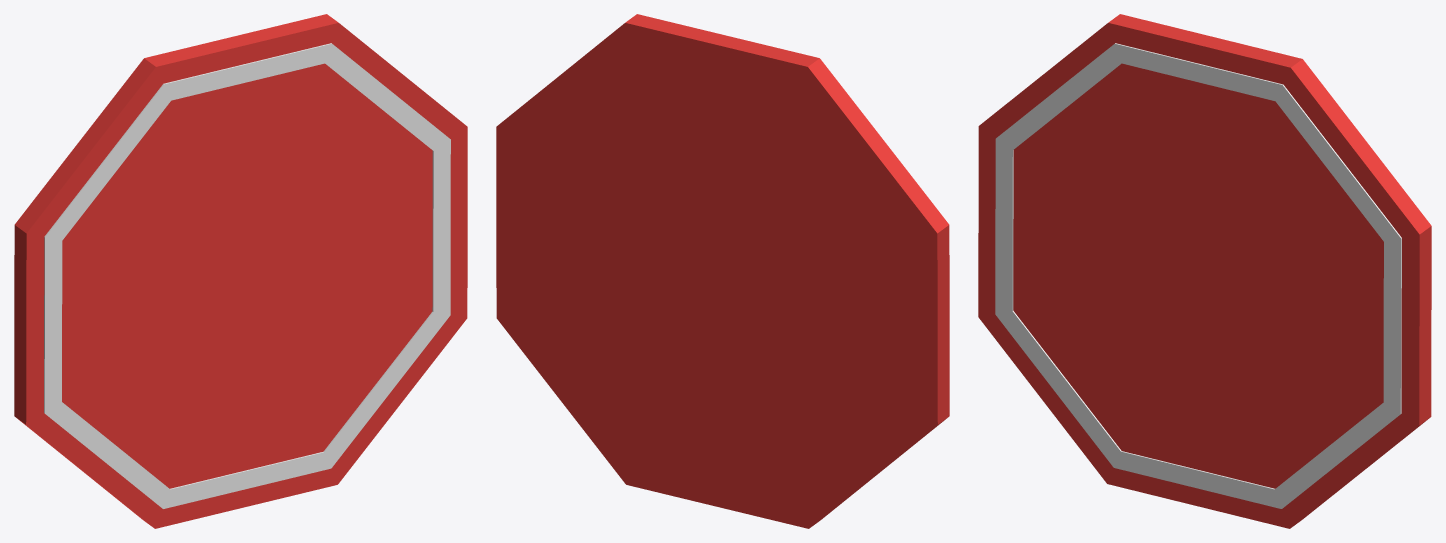
File: stop_sign.glb
3 renders of one model, left to right at view 1: azimuth 30°, elevation 25°; view 2: azimuth 150°, elevation 25°; view 3: azimuth 330°, elevation 25°, orthographic.
Visible parts, largest first — view 1: Circle.2397; view 2: Circle.2397; view 3: Circle.2397.
Boxes of the visible parts, box(x1,y1,x2,y2) form: Circle.2397: box(14, 14, 467, 528); Circle.2397: box(496, 14, 949, 528); Circle.2397: box(978, 14, 1431, 528).
Bounding box in the file's own units: 2.24 × 2.24 × 0.1122.
1 material, 1 textured.
